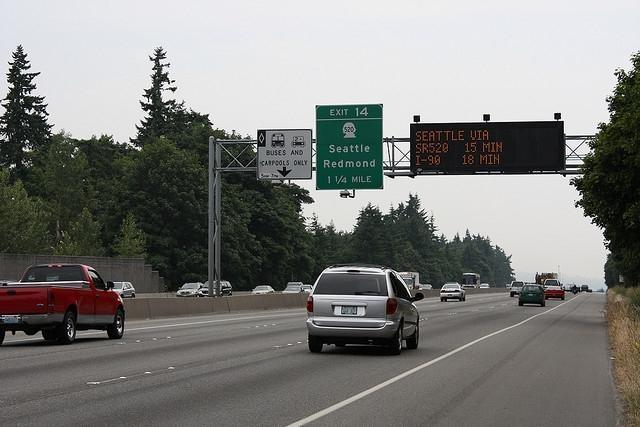bus: (459, 272, 482, 290)
car: (306, 263, 426, 354), (518, 282, 546, 308), (196, 280, 232, 297), (439, 282, 466, 304), (177, 283, 203, 297), (112, 281, 136, 296), (281, 283, 307, 294), (545, 286, 564, 300), (251, 285, 275, 294), (300, 285, 314, 295), (420, 284, 436, 290), (480, 283, 491, 288)
truck: (0, 262, 126, 346), (544, 278, 564, 300), (397, 271, 419, 290), (510, 281, 526, 297)
